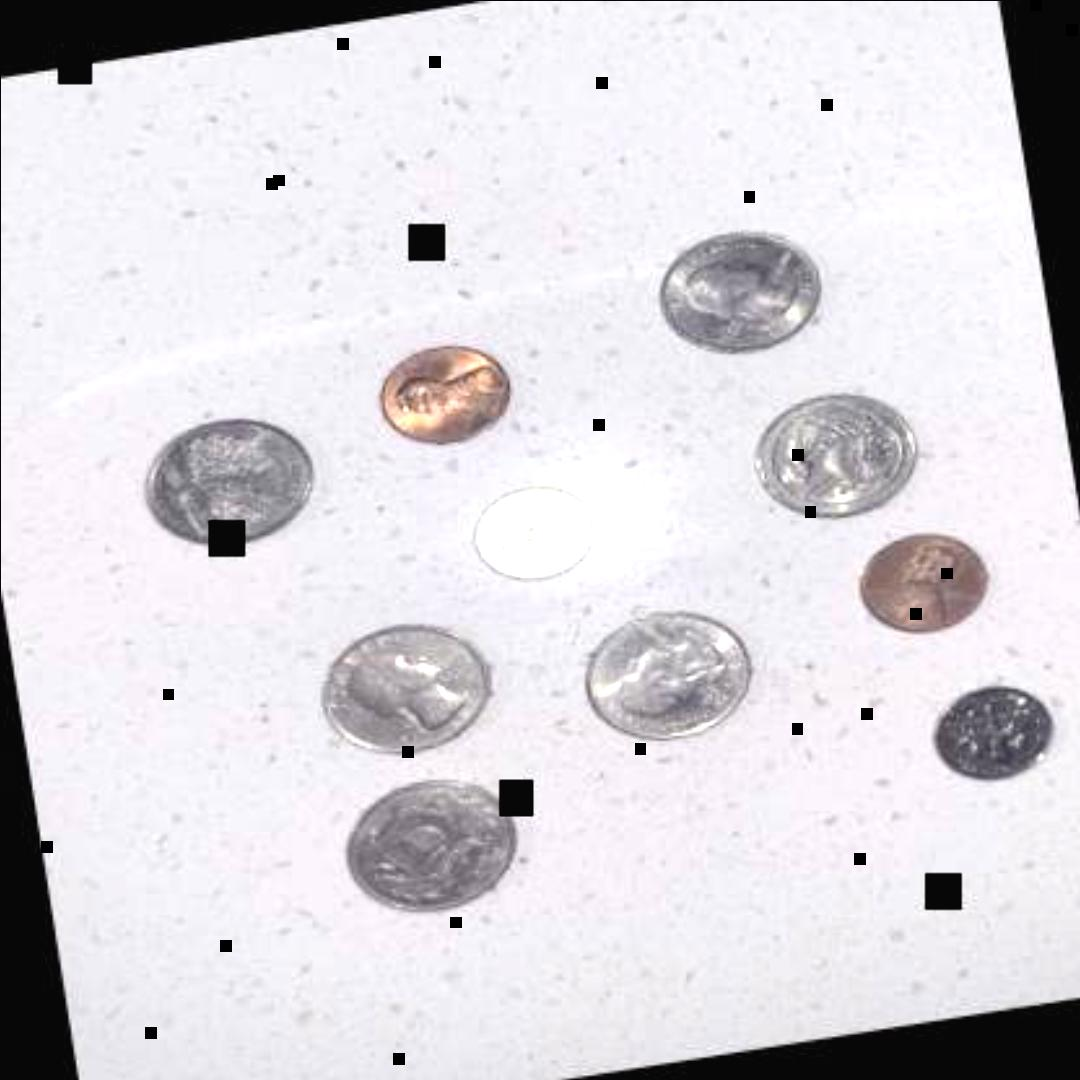Dime: (916, 666, 1072, 800), (465, 470, 615, 600)
Penny: (354, 318, 532, 464), (838, 512, 1006, 656)
Quarter: (626, 198, 851, 386), (122, 375, 332, 569), (298, 600, 520, 774), (334, 758, 556, 932), (564, 590, 776, 770), (731, 368, 943, 546)
